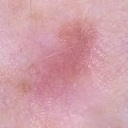Melanoma: (55, 21, 93, 62)
